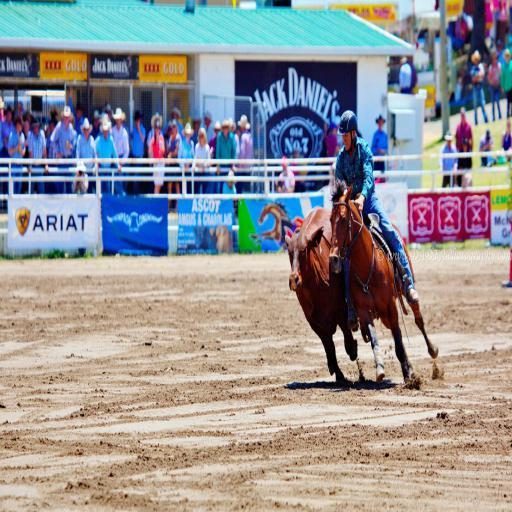horse: (328, 174, 440, 382)
